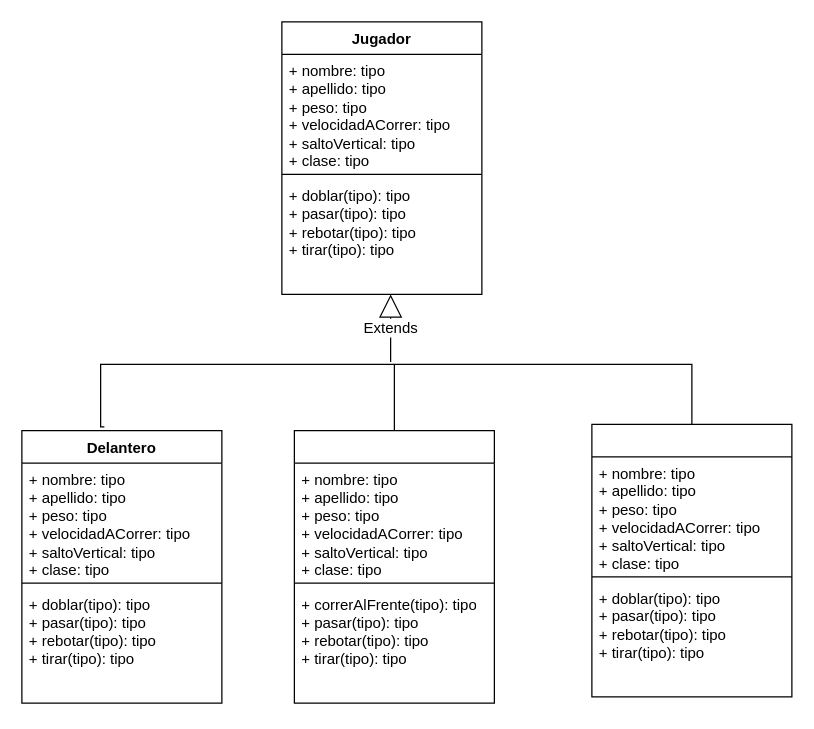
Some shapes in this 814 by 729 pixel diagram are drawn without their labels. The shapes that lost their labels are listed below. From the top down, each one's box as (x1, y1, x2, y2) in pixels, then its label:
(293, 429, 494, 703): Centro
(591, 423, 792, 697): Defensa
